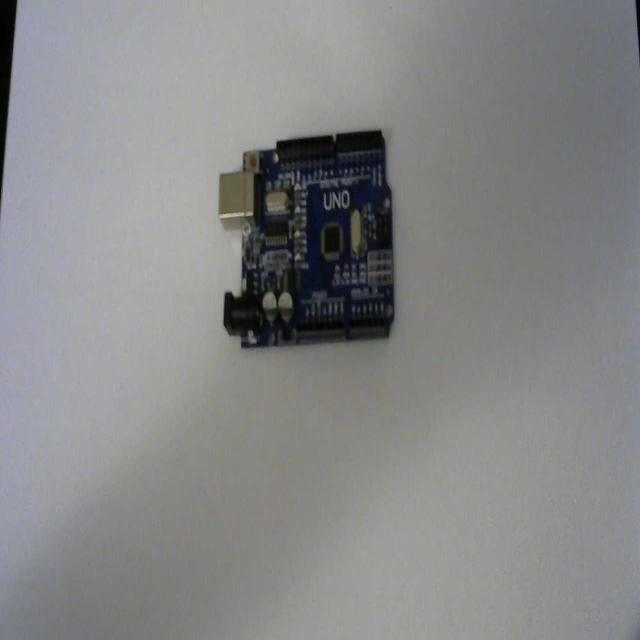arduino: (217, 128, 399, 354)
